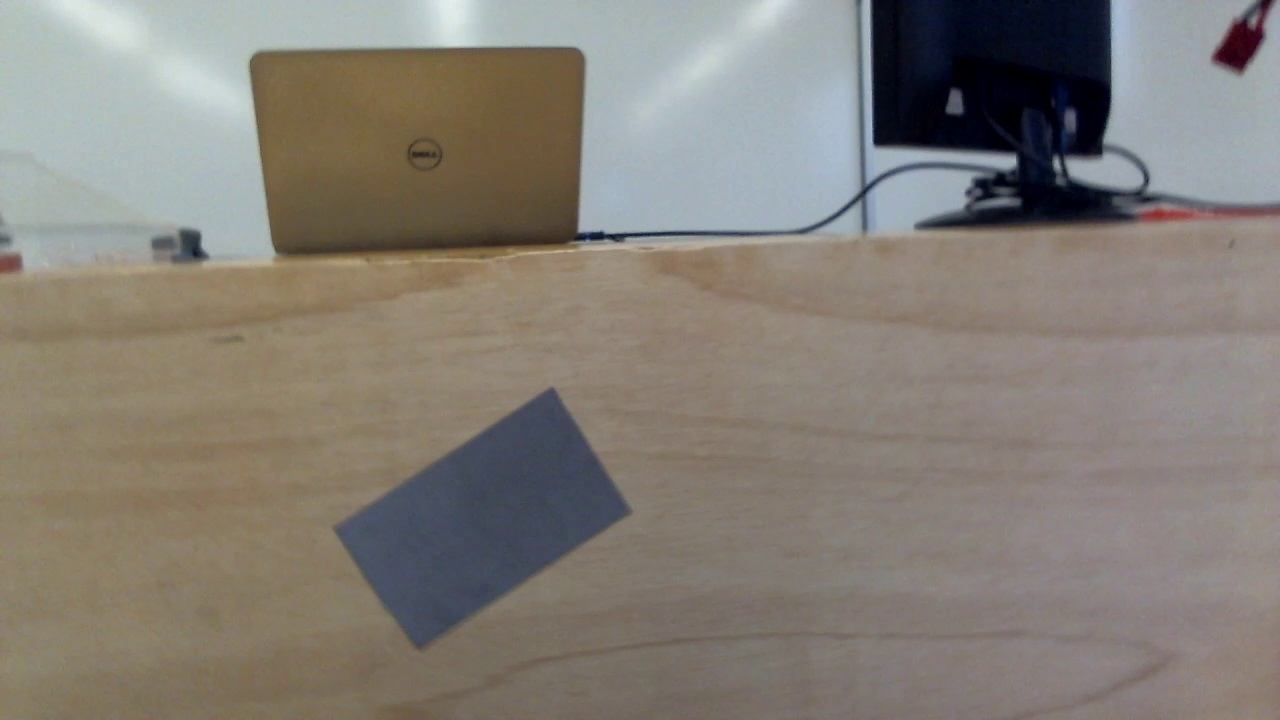Tape: (334, 389, 636, 651)
